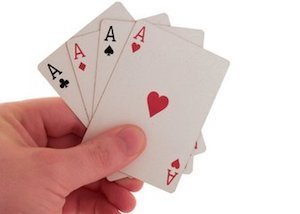AceOfClubs: (36, 49, 76, 130)
AceOfDiamonds: (69, 30, 102, 115)
AceOfHearts: (126, 17, 229, 194)
AceOfSpades: (96, 14, 125, 83)
